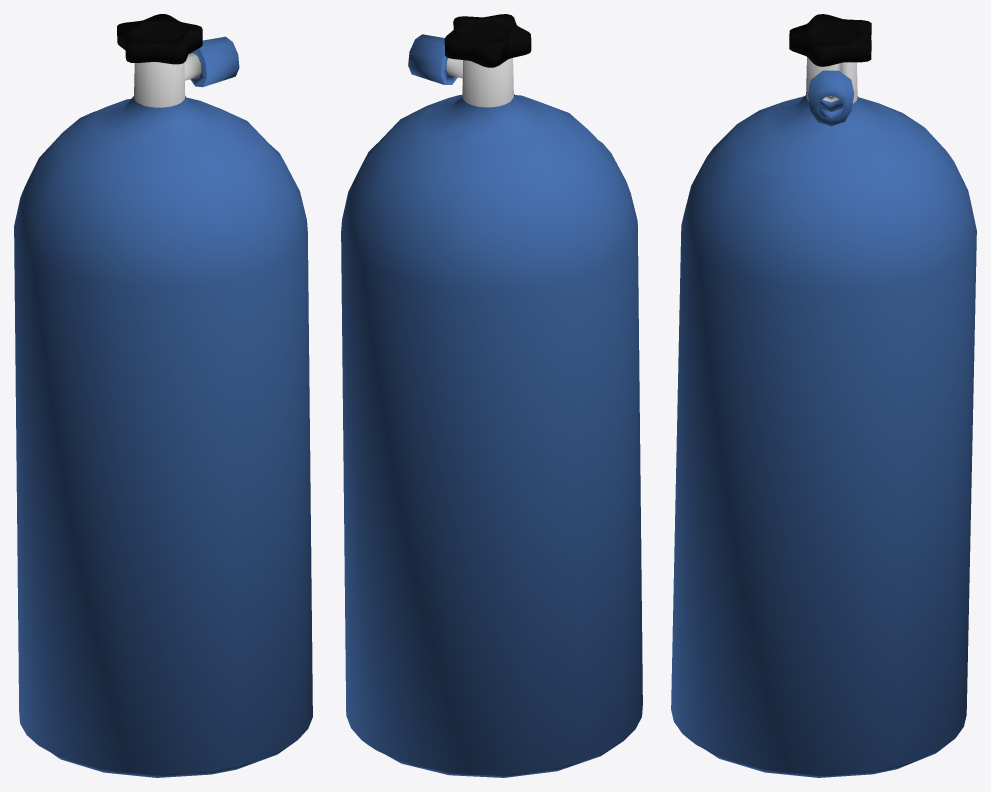
The model's file is NOs2Model.fbx.
3 renders of one model, left to right at view 1: azimuth 30°, elevation 25°; view 2: azimuth 150°, elevation 25°; view 3: azimuth 270°, elevation 25°, orthographic.
Parts seen in each view (by area): view 1: noS2; view 2: noS2; view 3: noS2.
Boxes of the visible parts, left/top/right/bottom form: noS2: left=14, top=14, right=312, bottom=777; noS2: left=341, top=14, right=642, bottom=777; noS2: left=671, top=14, right=976, bottom=777.
Bounding box in the file's own units: 160 × 411 × 165.
